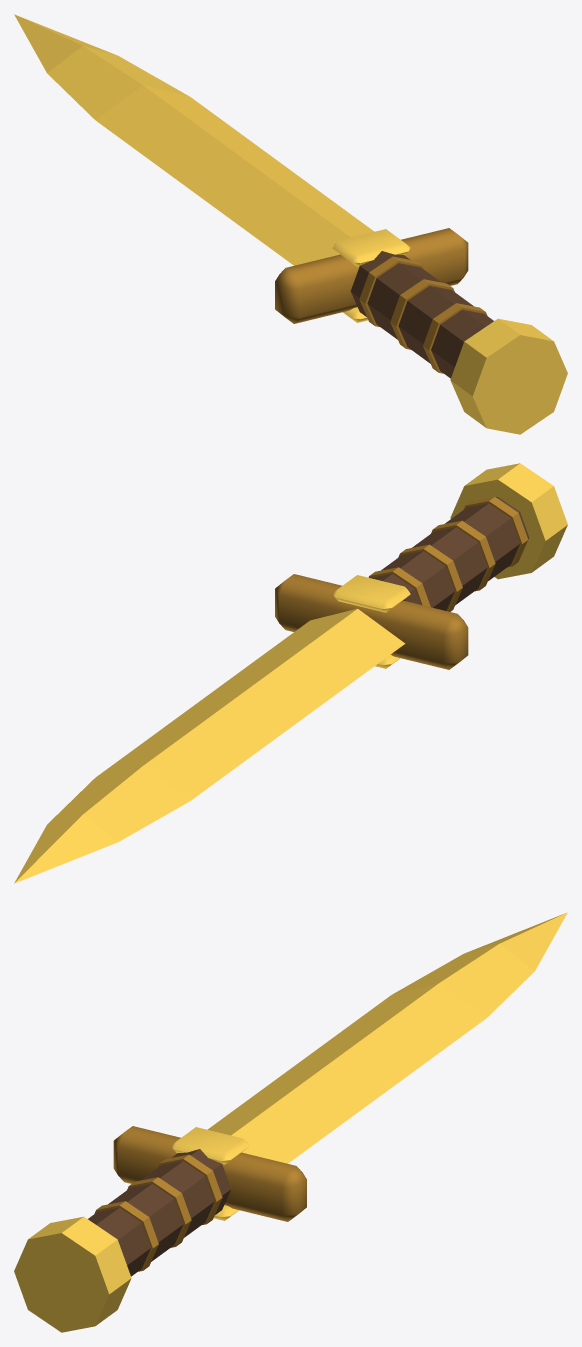
File: Catsword.fbx
3 renders of one model, top to bottom at view 1: azimuth 30°, elevation 25°; view 2: azimuth 150°, elevation 25°; view 3: azimuth 330°, elevation 25°, orthographic.
Visible parts, largest first — view 1: Catsword_Blade, Catsword_Pommel, Catsword_Grip, Catsword_Guard, Guard_Center_Front, Grip_Ring, Grip_Ring.001, Grip_Ring.002; view 2: Catsword_Blade, Catsword_Guard, Catsword_Grip, Catsword_Pommel, Guard_Center_Front, Grip_Ring.002, Grip_Ring.003, Grip_Ring.001, Grip_Ring; view 3: Catsword_Blade, Catsword_Pommel, Catsword_Grip, Catsword_Guard, Guard_Center_Front, Grip_Ring, Grip_Ring.001, Grip_Ring.002.
Part boxes in pixels (bbox=[...]): Catsword_Blade: bbox=[14, 14, 374, 265]; Catsword_Pommel: bbox=[450, 318, 567, 434]; Catsword_Grip: bbox=[350, 251, 493, 378]; Catsword_Guard: bbox=[275, 228, 468, 323]; Guard_Center_Front: bbox=[332, 229, 410, 266]; Grip_Ring: bbox=[359, 256, 423, 326]; Grip_Ring.001: bbox=[390, 279, 454, 349]; Grip_Ring.002: bbox=[423, 303, 487, 373]; Catsword_Blade: bbox=[14, 608, 405, 883]; Catsword_Guard: bbox=[275, 574, 468, 669]; Catsword_Grip: bbox=[370, 497, 528, 610]; Catsword_Pommel: bbox=[450, 463, 567, 579]; Guard_Center_Front: bbox=[332, 575, 410, 612]; Grip_Ring.002: bbox=[431, 520, 495, 591]; Grip_Ring.003: bbox=[464, 497, 528, 567]; Grip_Ring.001: bbox=[398, 544, 462, 611]; Grip_Ring: bbox=[368, 567, 430, 607]; Catsword_Blade: bbox=[207, 912, 567, 1163]; Catsword_Pommel: bbox=[14, 1216, 131, 1332]; Catsword_Grip: bbox=[88, 1149, 231, 1276]; Catsword_Guard: bbox=[113, 1126, 306, 1221]; Guard_Center_Front: bbox=[171, 1127, 249, 1164]; Grip_Ring: bbox=[158, 1154, 222, 1224]; Grip_Ring.001: bbox=[127, 1177, 191, 1247]; Grip_Ring.002: bbox=[94, 1201, 158, 1271].
Bounding box in the file's own units: 62 × 32 × 294.
